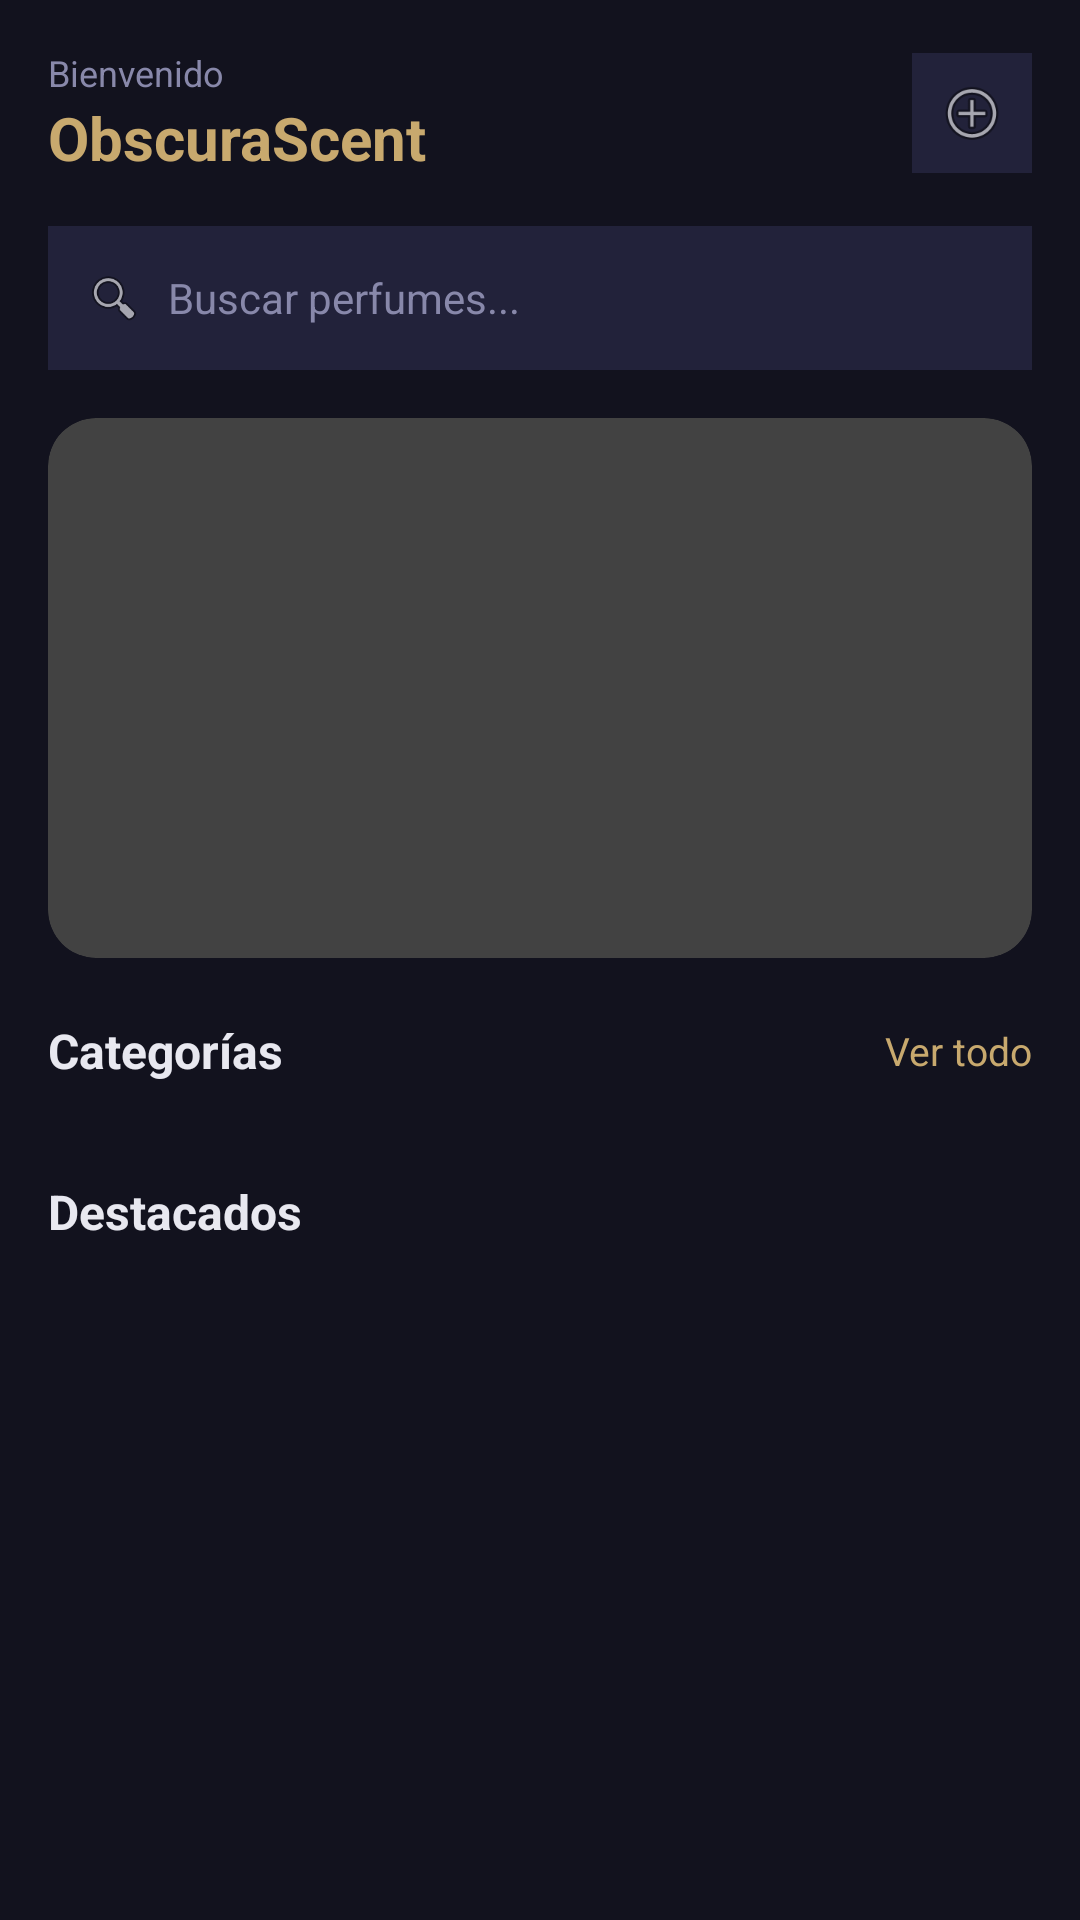

Point at icon controls on the screen. Image size 1080*1920, points as point (x, y).
add: point (972, 113)
search: point (114, 298)
